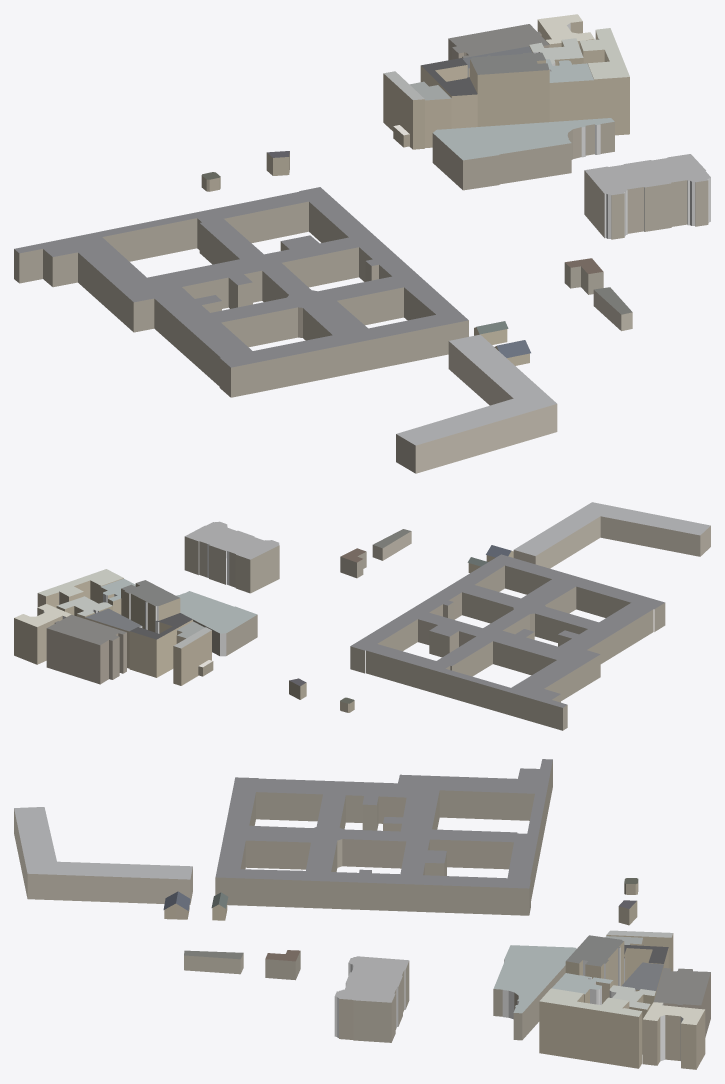
The picture shows the model from 3 angles, top to bottom: view 1: azimuth 30°, elevation 25°; view 2: azimuth 150°, elevation 25°; view 3: azimuth 270°, elevation 25°; orthographic projection. The views are drawn at different scales.
Visible parts, largest first — view 1: tuile; view 2: tuile; view 3: tuile.
Boxes of the visible parts, x1=… form: tuile: x1=14, y1=14, x2=710, y2=473; tuile: x1=14, y1=502, x2=710, y2=730; tuile: x1=14, y1=759, x2=710, y2=1069.
Bounding box in the file's own units: 269 × 29.37 × 278.
